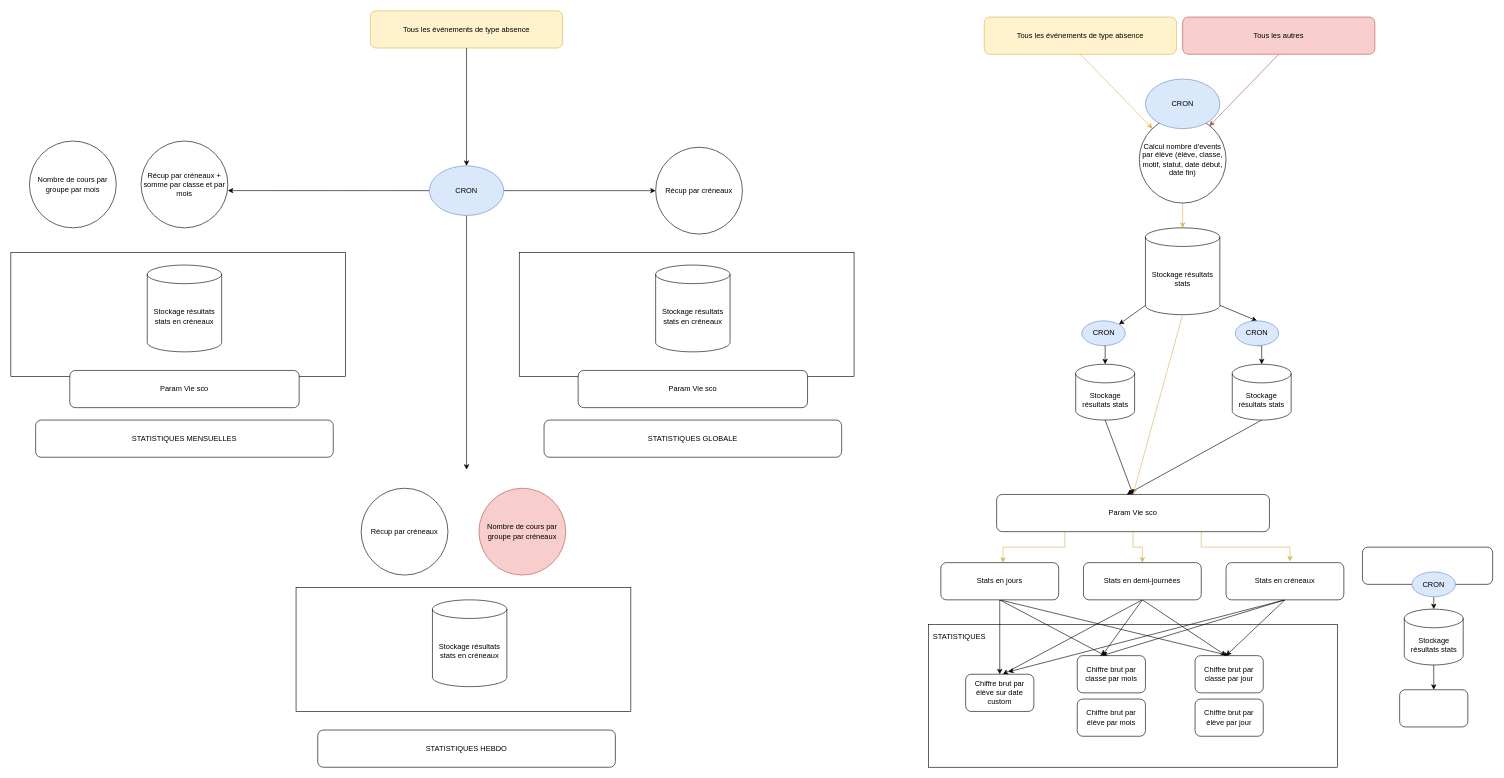
Some shapes in this 1504 by 778 pixel diagram are drawn without their labels. The shapes that lost their labels are listed below. From the top down, each one's box as (x1, y1, x2, y2) in pixels, then its label:
(1362, 547, 1493, 584): MEMENTO
(1399, 689, 1468, 727): Chiffre brut par élève par trimestre
